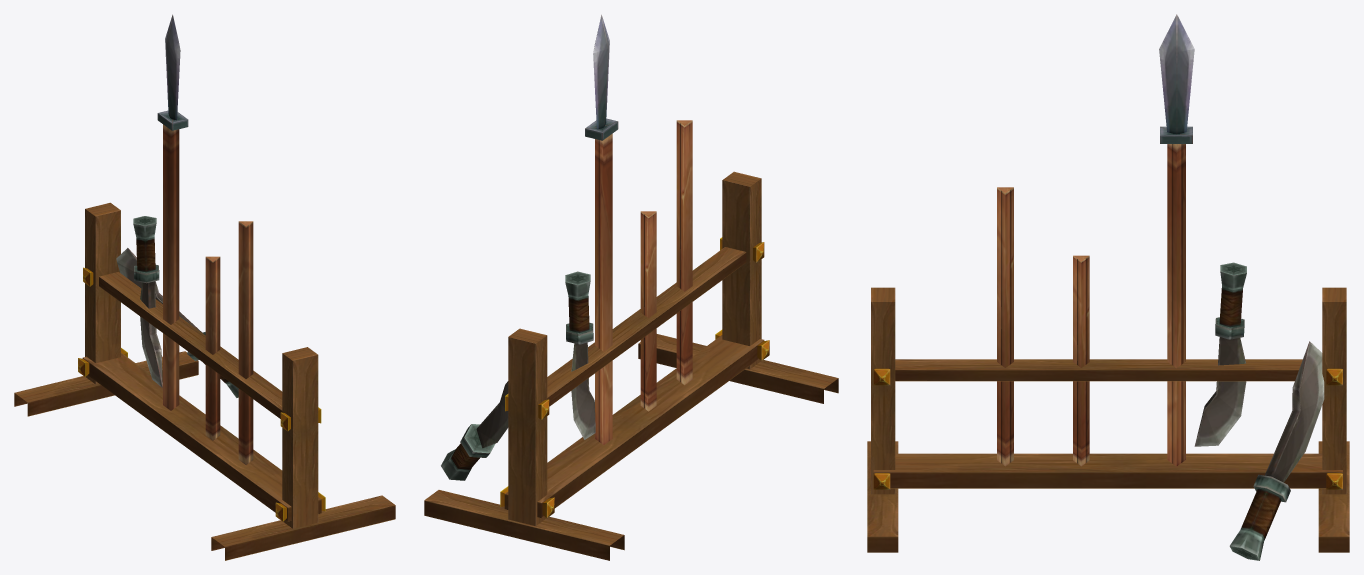
Rendered from szc_object_bingqijia01a.FBX.
The picture shows the model from 3 angles, left to right: view 1: azimuth 30°, elevation 25°; view 2: azimuth 150°, elevation 25°; view 3: azimuth 270°, elevation 25°; orthographic projection. The views are drawn at different scales.
Parts seen in each view (by area): view 1: szc_object_bingqijia01a_bingqi; view 2: szc_object_bingqijia01a_bingqi; view 3: szc_object_bingqijia01a_bingqi.
Part boxes in pixels (x1,y1,x2,y2): szc_object_bingqijia01a_bingqi: (14,14,395,560); szc_object_bingqijia01a_bingqi: (424,14,838,560); szc_object_bingqijia01a_bingqi: (867,14,1349,560).
Size of the model in its own units: 42.06 by 88 by 78.1.
